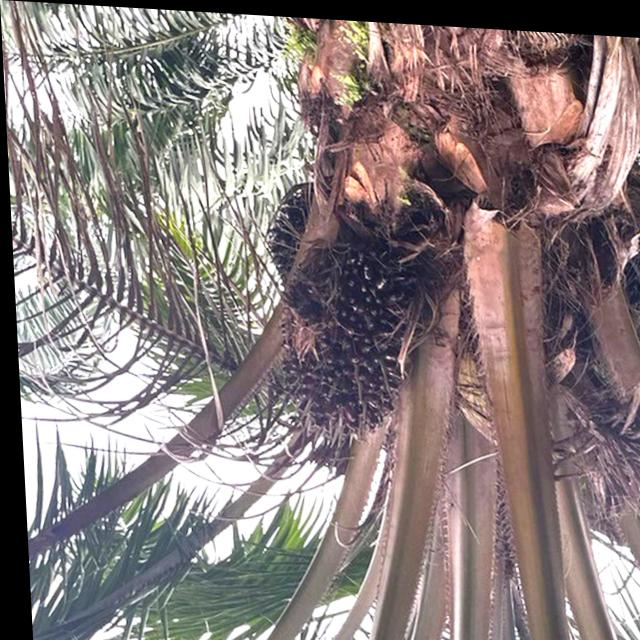ripe: (268, 303, 424, 457)
